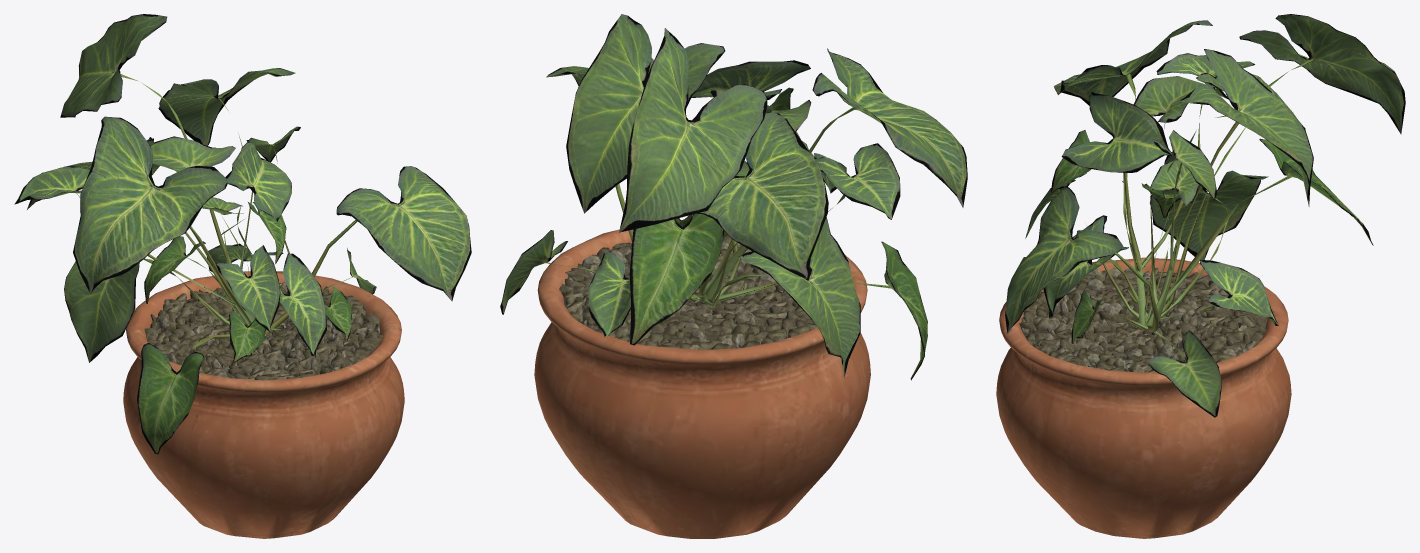
Rendered from potted_plant_02.glb.
The picture shows the model from 3 angles, left to right: view 1: azimuth 30°, elevation 25°; view 2: azimuth 150°, elevation 25°; view 3: azimuth 270°, elevation 25°; orthographic projection. The views are drawn at different scales.
Parts seen in each view (by area): view 1: potted_plant_02_leaves, potted_plant_02_pot; view 2: potted_plant_02_leaves, potted_plant_02_pot; view 3: potted_plant_02_pot, potted_plant_02_leaves.
Part boxes in pixels (x1,y1,x2,y2): potted_plant_02_leaves: (14, 14, 471, 454); potted_plant_02_pot: (123, 271, 404, 538); potted_plant_02_leaves: (500, 14, 967, 380); potted_plant_02_pot: (534, 220, 870, 538); potted_plant_02_pot: (996, 257, 1291, 538); potted_plant_02_leaves: (1005, 14, 1405, 417).
Bounding box in the file's own units: 0.7009 × 0.8401 × 0.6574.
Materials: 2 (2 with a texture image).
